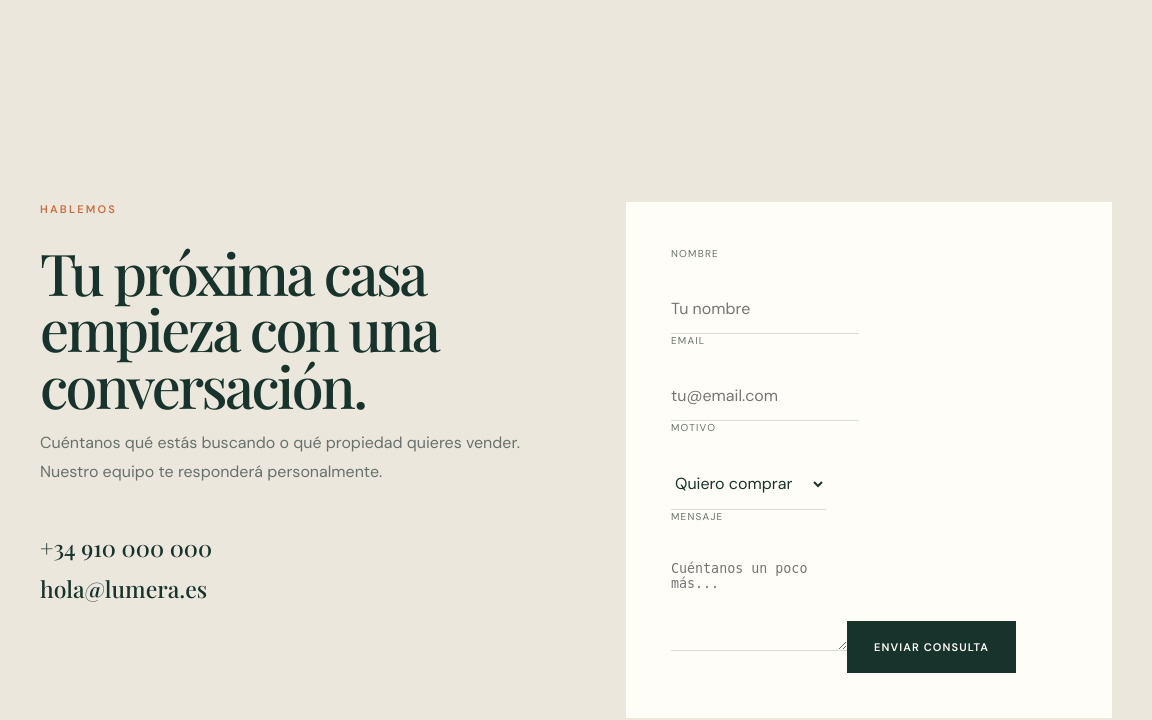
Test: ContactPage › permite reintentar cuando falla el envío
Type "Laura Martín" into the field labelled "Nombre". click: (765, 309)
box: [671, 284, 859, 334]
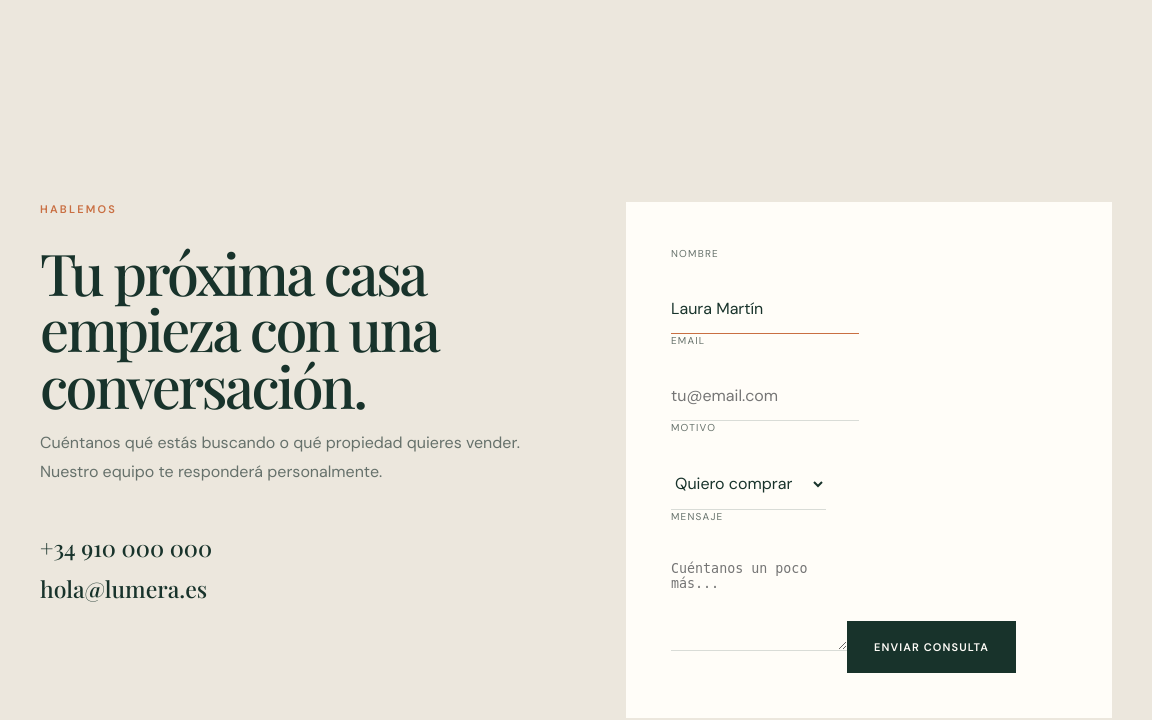
Type "laura@example.com" into the field labelled "Email". click: (765, 396)
box: [671, 371, 859, 421]
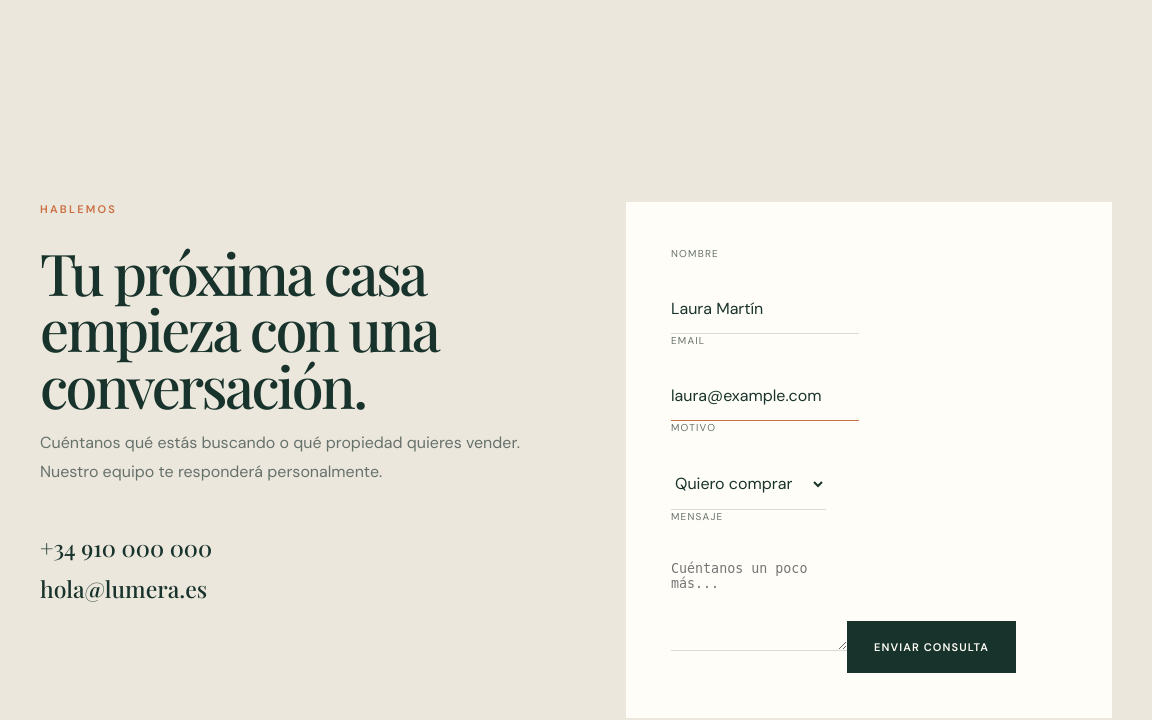
Type "Necesito información sobre una vivienda." into the text box labelled "Mensaje". click: (759, 599)
box: [671, 547, 847, 651]
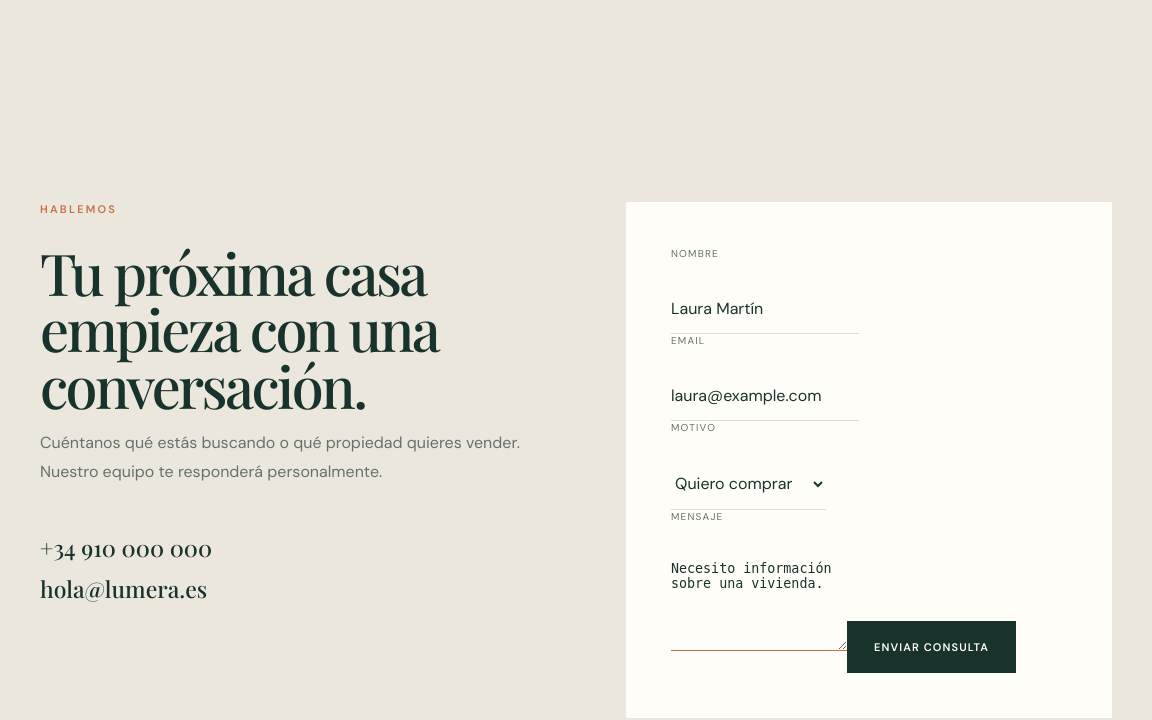
Click the button "Enviar consulta". click: (932, 647)
box: [847, 621, 1016, 673]
(page scrolled)
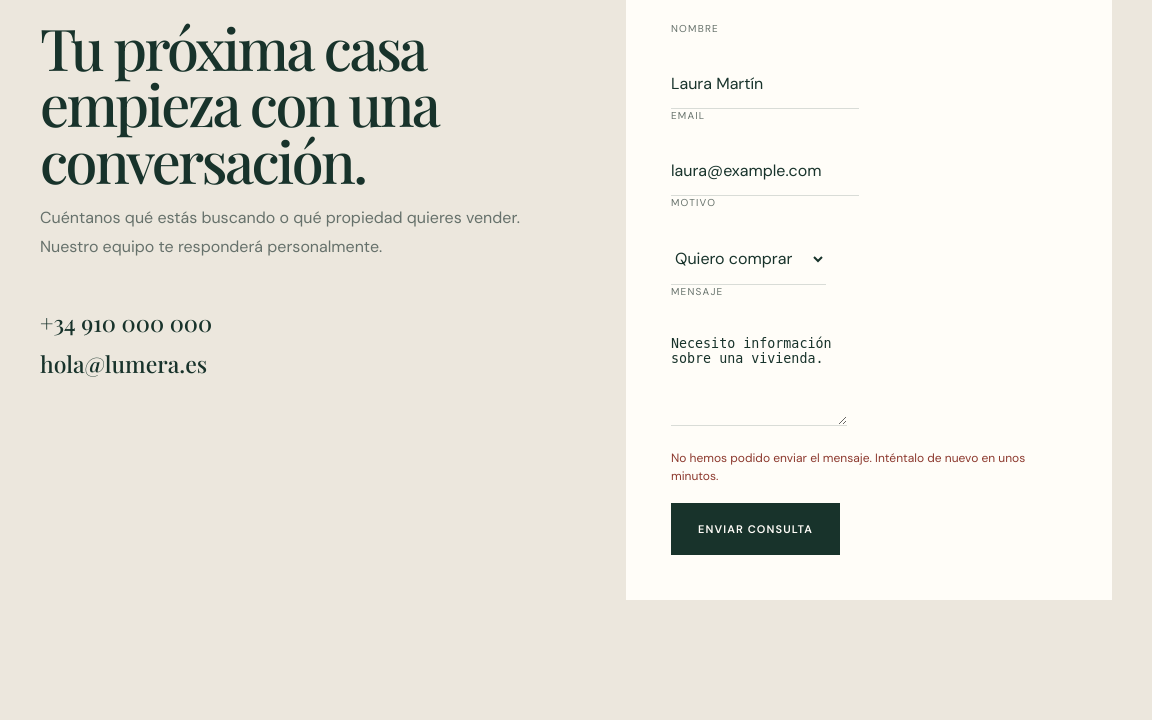
Expected: the button "Enviar consulta" is enabled, [671, 503, 840, 555]
Expected: the message shows "No hemos podido enviar", [671, 450, 1025, 484]
